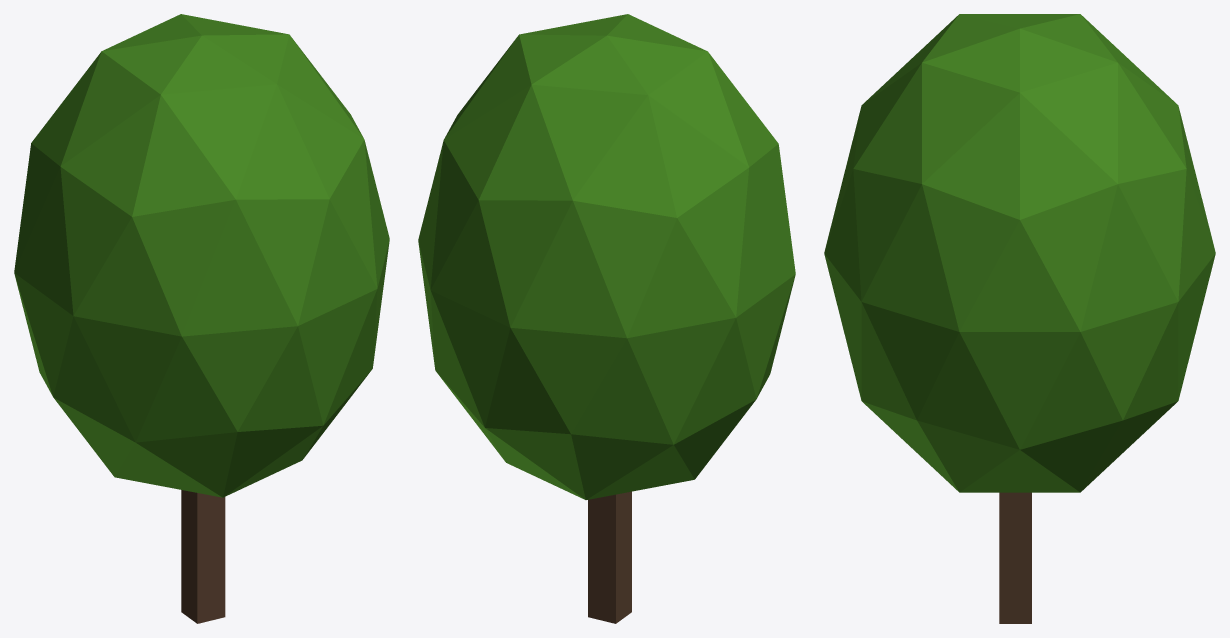
The model's file is OakV4.fbx.
3 views of the same model, side by side, from view 1: azimuth 30°, elevation 25°; view 2: azimuth 150°, elevation 25°; view 3: azimuth 270°, elevation 25° (orthographic).
Visible parts, largest first — view 1: Cube.005; view 2: Cube.005; view 3: Cube.005.
Boxes of the visible parts, box(x1,y1,x2,y2) form: Cube.005: box(14, 14, 389, 623); Cube.005: box(418, 14, 795, 623); Cube.005: box(824, 14, 1215, 623).
Bounding box in the file's own units: 112 × 196 × 118.
